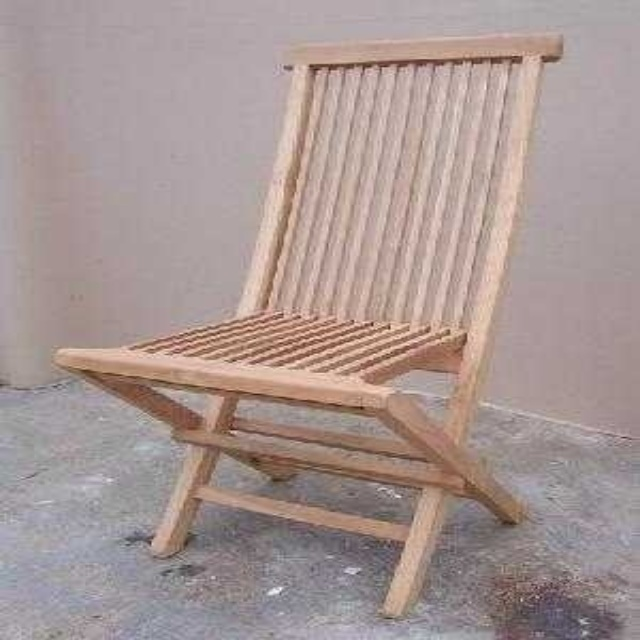obstacle: (55, 35, 561, 614)
